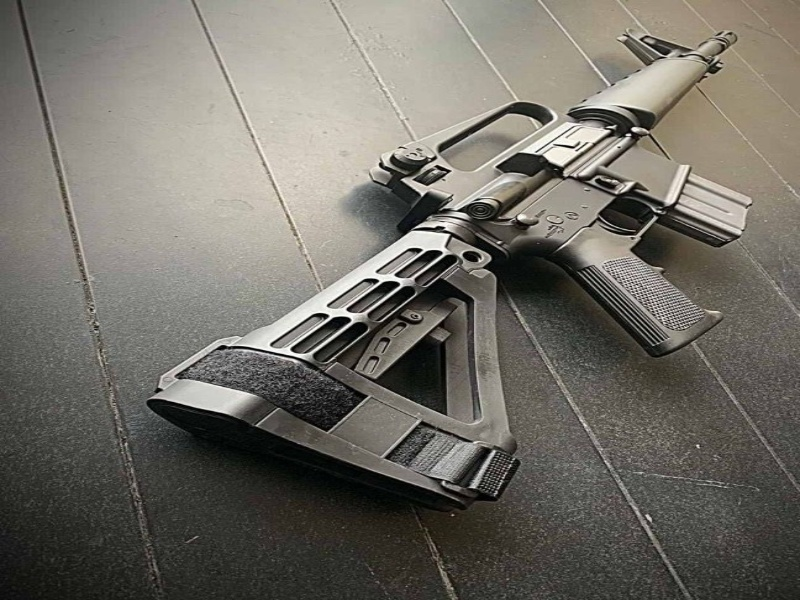weapon: (145, 28, 751, 509)
